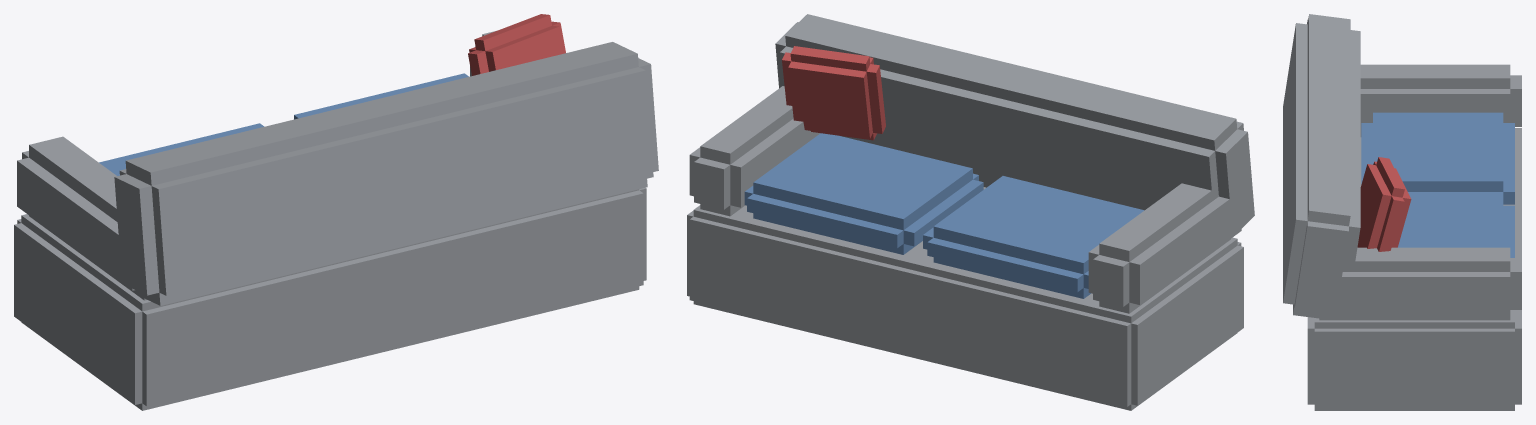
File: couch.glb
3 views of the same model, side by side, from view 1: azimuth 30°, elevation 25°; view 2: azimuth 150°, elevation 25°; view 3: azimuth 270°, elevation 25° (orthographic). The views are drawn at different scales.
Parts seen in each view (by area): view 1: couch; view 2: couch; view 3: couch.
Part boxes in pixels (bbox=[...]): couch: bbox=[14, 14, 658, 410]; couch: bbox=[687, 14, 1254, 410]; couch: bbox=[1283, 14, 1521, 410].
Bounding box in the file's own units: 2.1 × 0.9797 × 1.03.
